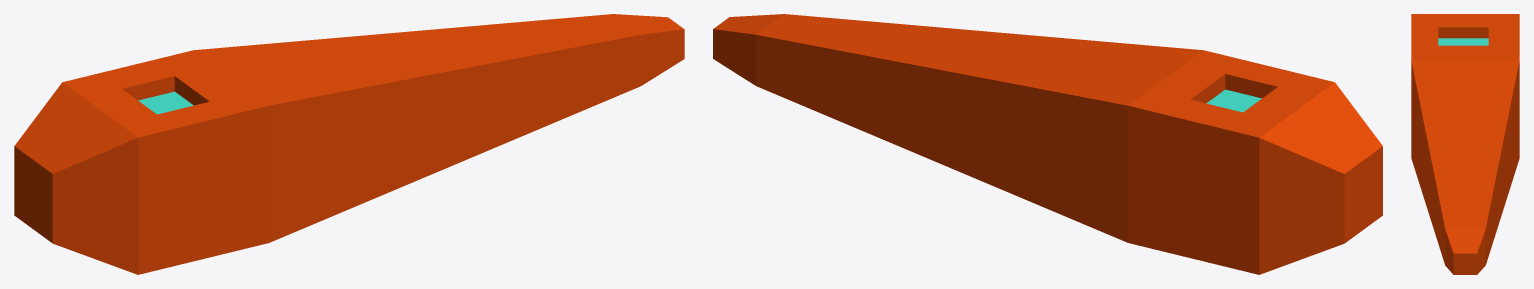
Rendered from Flipper.fbx.
3 views of the same model, side by side, from view 1: azimuth 30°, elevation 25°; view 2: azimuth 150°, elevation 25°; view 3: azimuth 270°, elevation 25° (orthographic). The views are drawn at different scales.
Parts seen in each view (by area): view 1: Flipper; view 2: Flipper; view 3: Flipper.
Part boxes in pixels (bbox=[...]): Flipper: bbox=[14, 14, 684, 274]; Flipper: bbox=[713, 14, 1382, 274]; Flipper: bbox=[1411, 14, 1519, 274].
Size of the model in its own units: 980 by 200 by 200.
